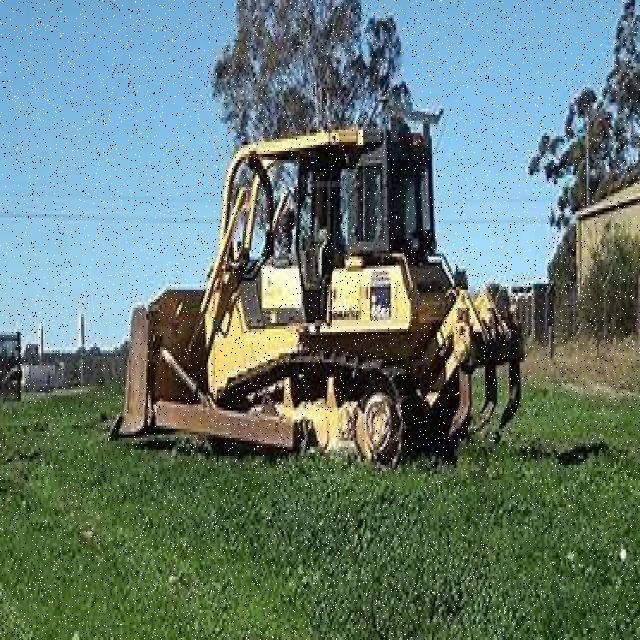Bulldozer: (100, 90, 546, 492)
